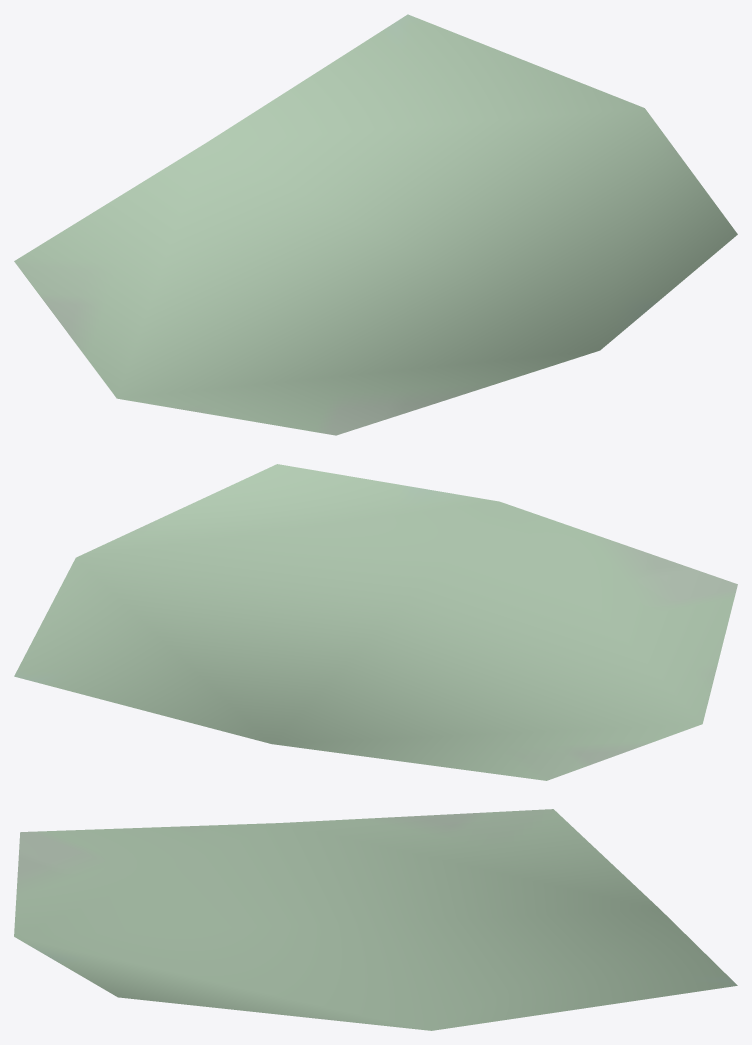
The model's file is TROLLHOLE02_HOLECAP192.fbx.
3 renders of one model, top to bottom at view 1: azimuth 30°, elevation 25°; view 2: azimuth 150°, elevation 25°; view 3: azimuth 270°, elevation 25°, orthographic. The views are drawn at different scales.
Visible parts, largest first — view 1: TROLLHOLE02_HOLECAP192; view 2: TROLLHOLE02_HOLECAP192; view 3: TROLLHOLE02_HOLECAP192.
Part boxes in pixels (x1=…): TROLLHOLE02_HOLECAP192: x1=14, y1=14, x2=737, y2=435; TROLLHOLE02_HOLECAP192: x1=14, y1=464, x2=737, y2=780; TROLLHOLE02_HOLECAP192: x1=14, y1=809, x2=737, y2=1030.
Bounding box in the file's own units: 11696 × 1694 × 12057.
Materials: 1 (1 with a texture image).
